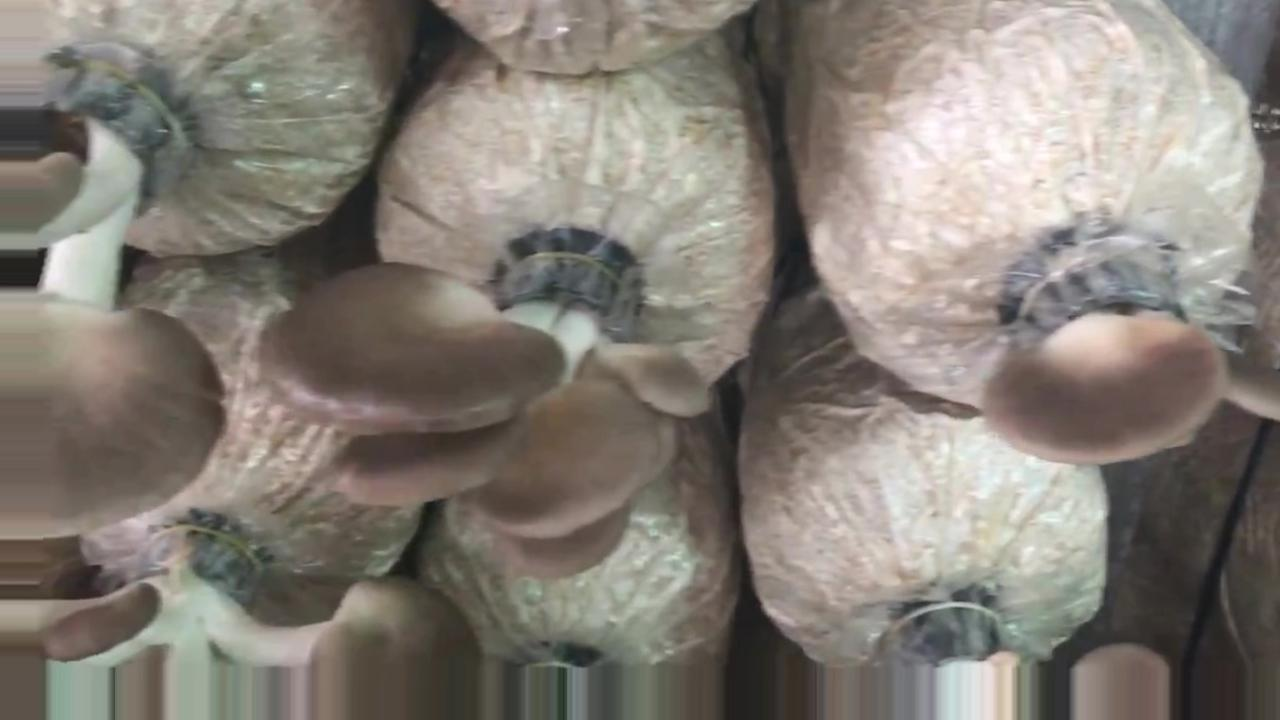nam: (255, 241, 721, 580), (1, 45, 231, 543), (981, 214, 1232, 471), (1, 539, 488, 671)
